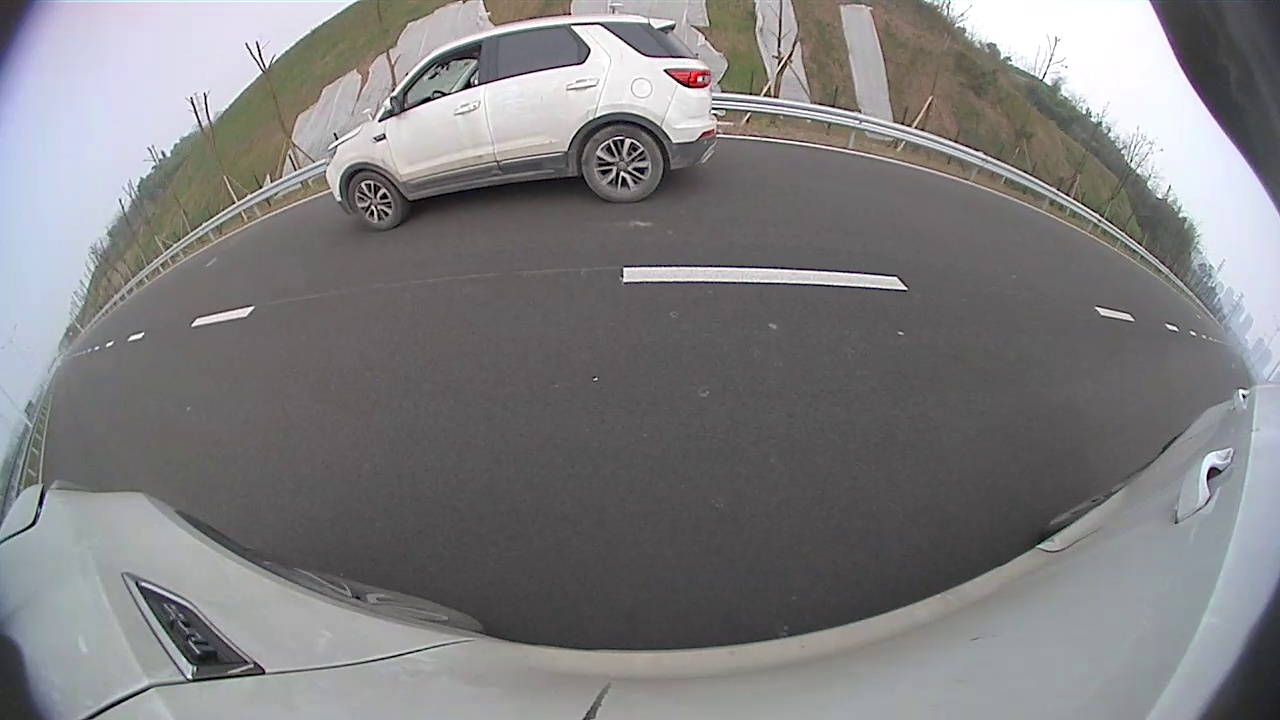car: (328, 15, 717, 230)
front: (346, 170, 404, 234)
rear: (580, 124, 665, 205)
